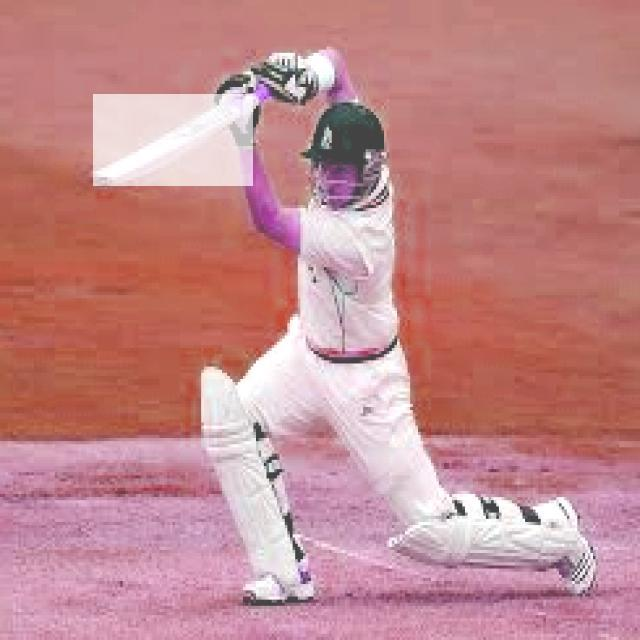bat: (90, 93, 254, 191)
toe: (88, 169, 118, 188)
